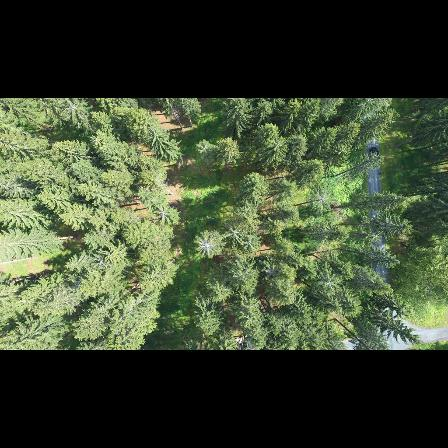Sick: (192, 229, 226, 262), (220, 222, 246, 245), (364, 228, 384, 248)
